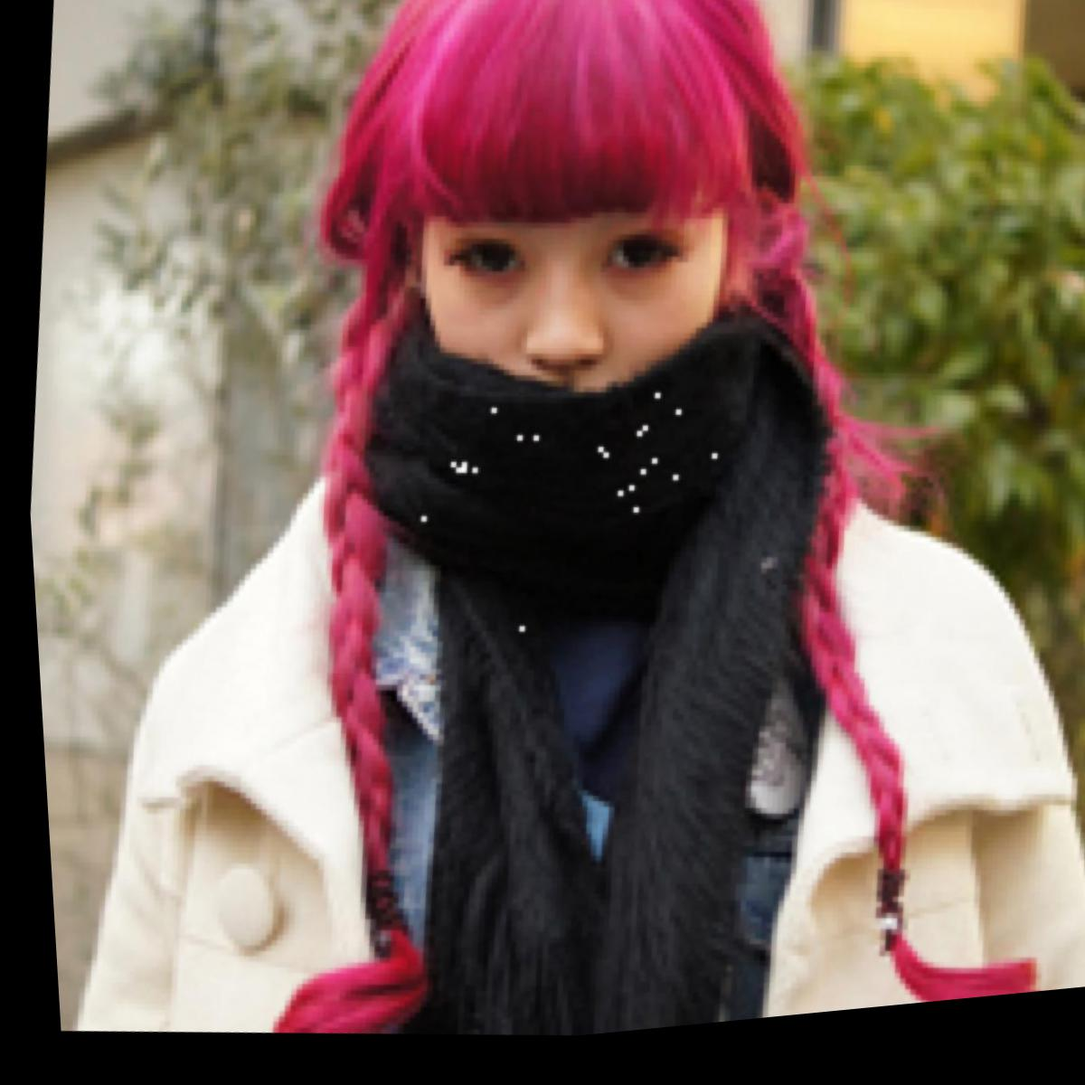WRONG: (397, 147, 758, 507)
